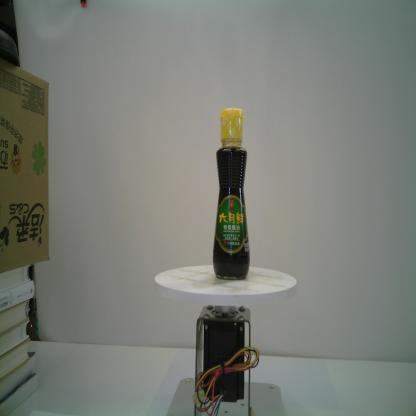Seasoner: (212, 107, 250, 281)
